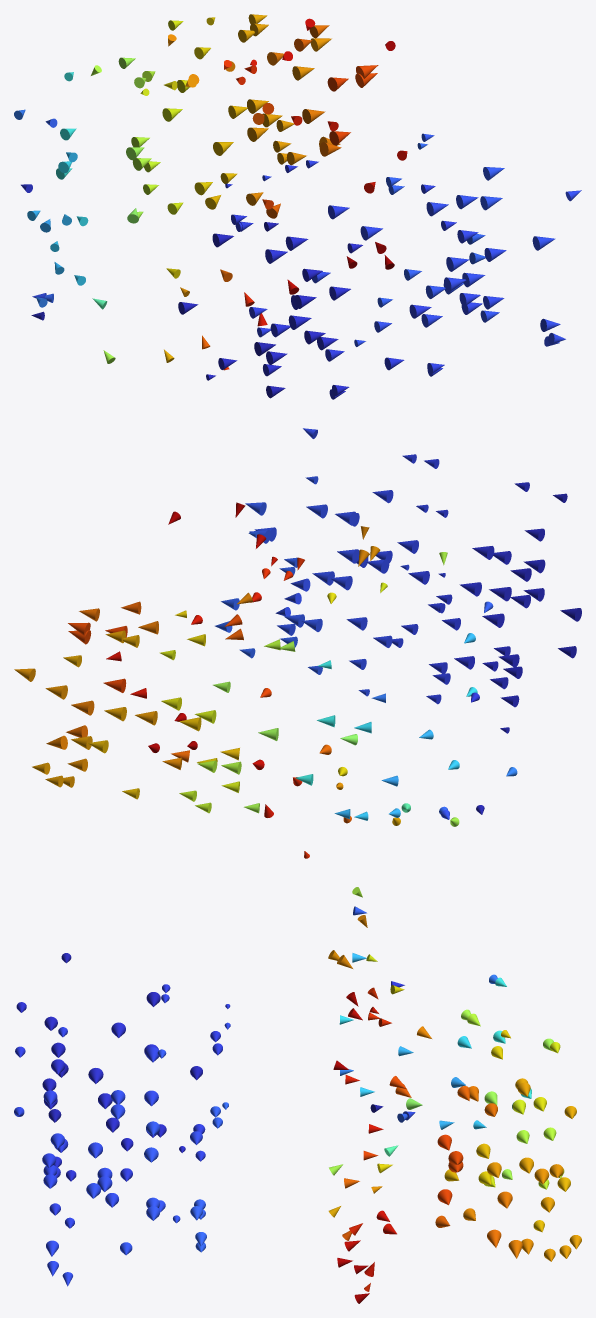
File: LineasCorrienteN2-H2O_mh2-5.58_V-0.9.glb
The picture shows the model from 3 angles, top to bottom: view 1: azimuth 30°, elevation 25°; view 2: azimuth 150°, elevation 25°; view 3: azimuth 270°, elevation 25°; orthographic projection.
Bounding box in the file's own units: 0.000977 × 0.000813 × 0.0012.
2 materials, 2 textured.
